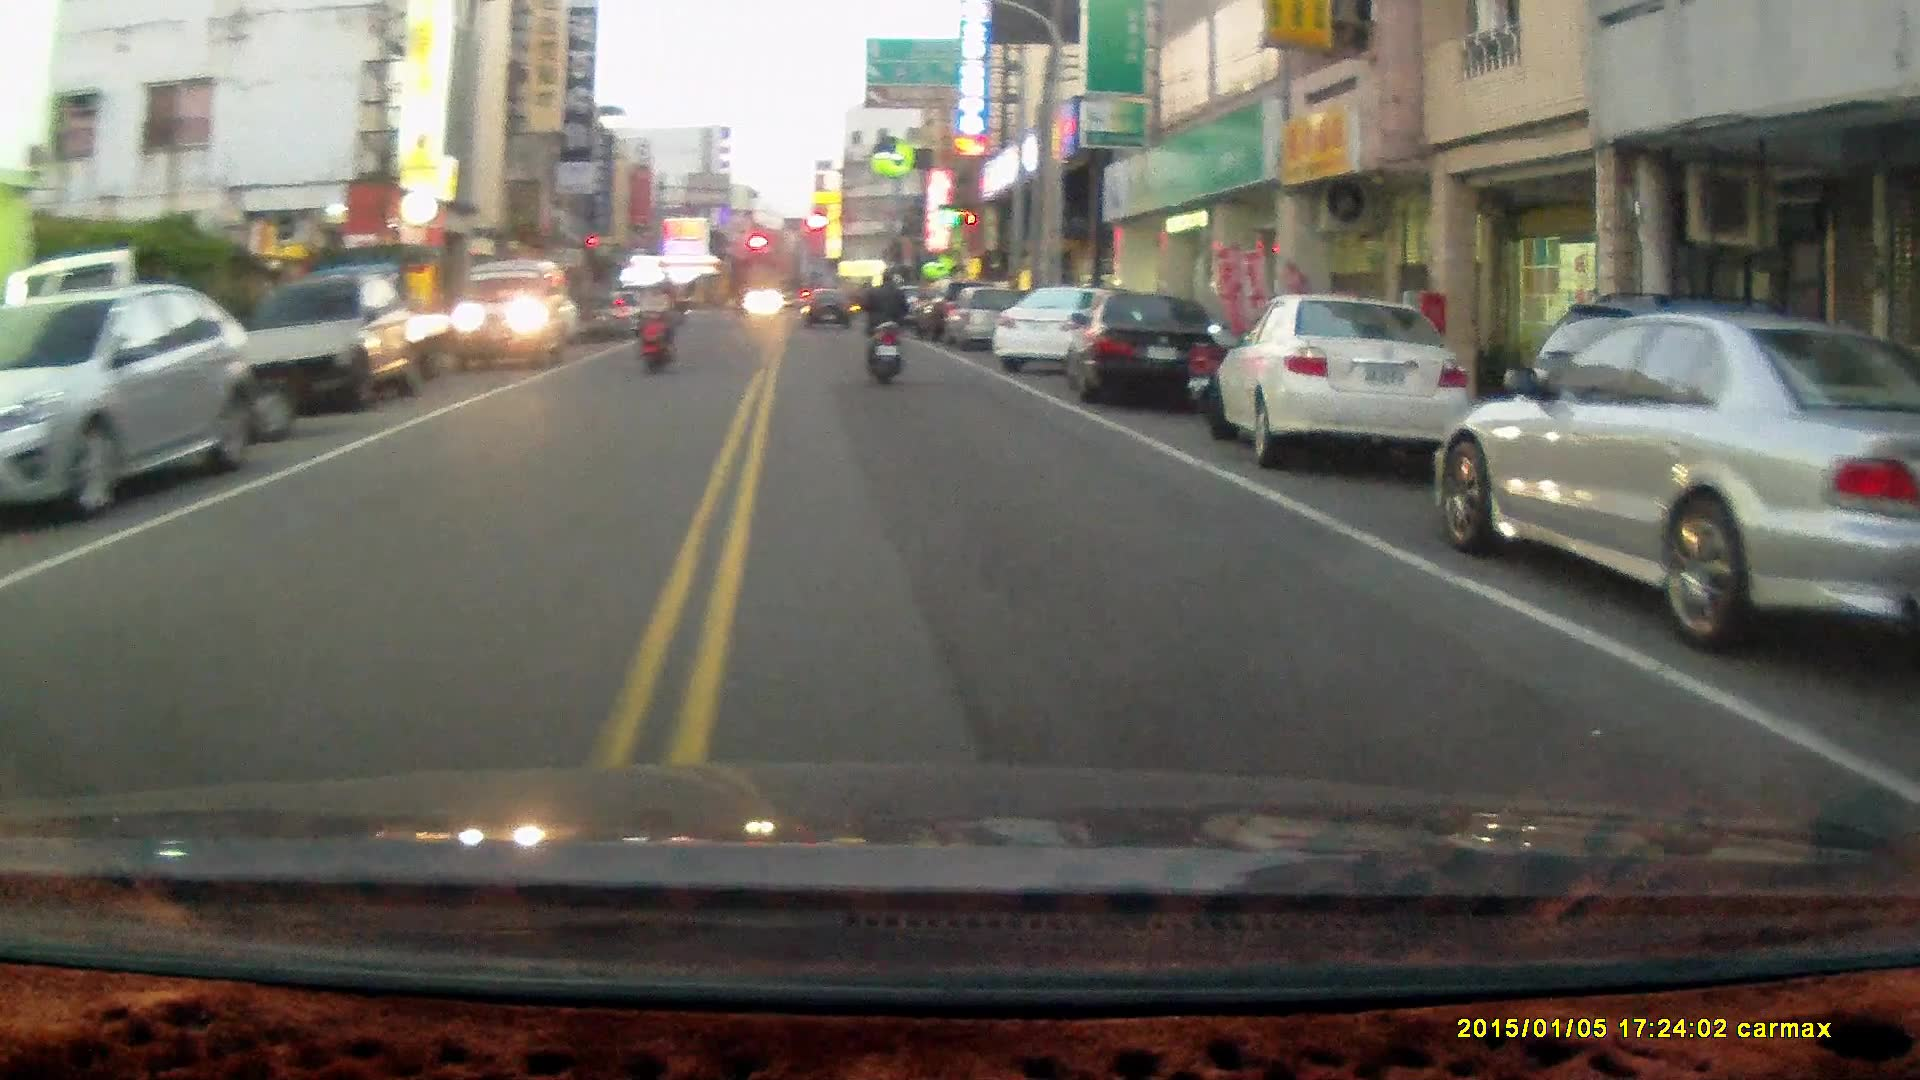rider: (860, 265, 908, 389), (638, 275, 677, 378)
vehicle: (1430, 307, 1920, 647), (1, 288, 244, 524), (1206, 293, 1481, 464), (244, 271, 407, 410), (1072, 289, 1231, 408), (987, 286, 1143, 379), (455, 258, 576, 375)
